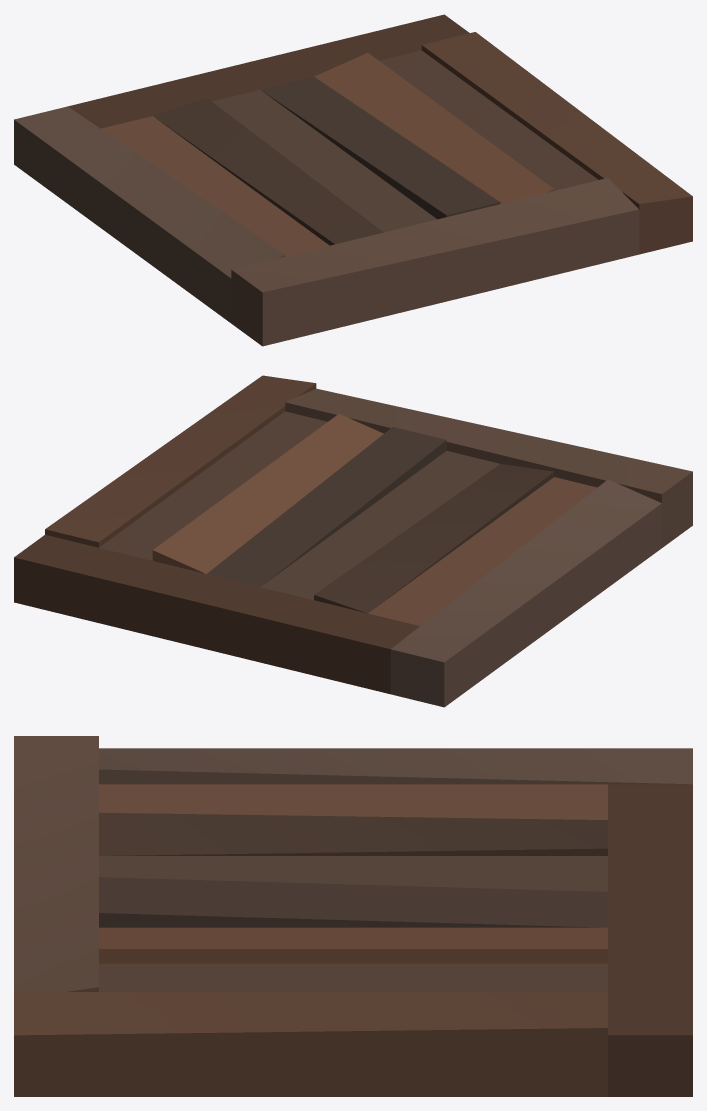
File: Floor_PlanksA_LOD0.fbx
3 views of the same model, one above another, from view 1: azimuth 30°, elevation 25°; view 2: azimuth 150°, elevation 25°; view 3: azimuth 270°, elevation 25° (orthographic). The views are drawn at different scales.
Visible parts, largest first — view 1: Floor_PlanksA_LOD0; view 2: Floor_PlanksA_LOD0; view 3: Floor_PlanksA_LOD0.
Part boxes in pixels (bbox=[...]): Floor_PlanksA_LOD0: bbox=[14, 14, 692, 346]; Floor_PlanksA_LOD0: bbox=[14, 375, 692, 707]; Floor_PlanksA_LOD0: bbox=[14, 736, 692, 1096].
Size of the model in its own units: 250 by 31 by 250.
